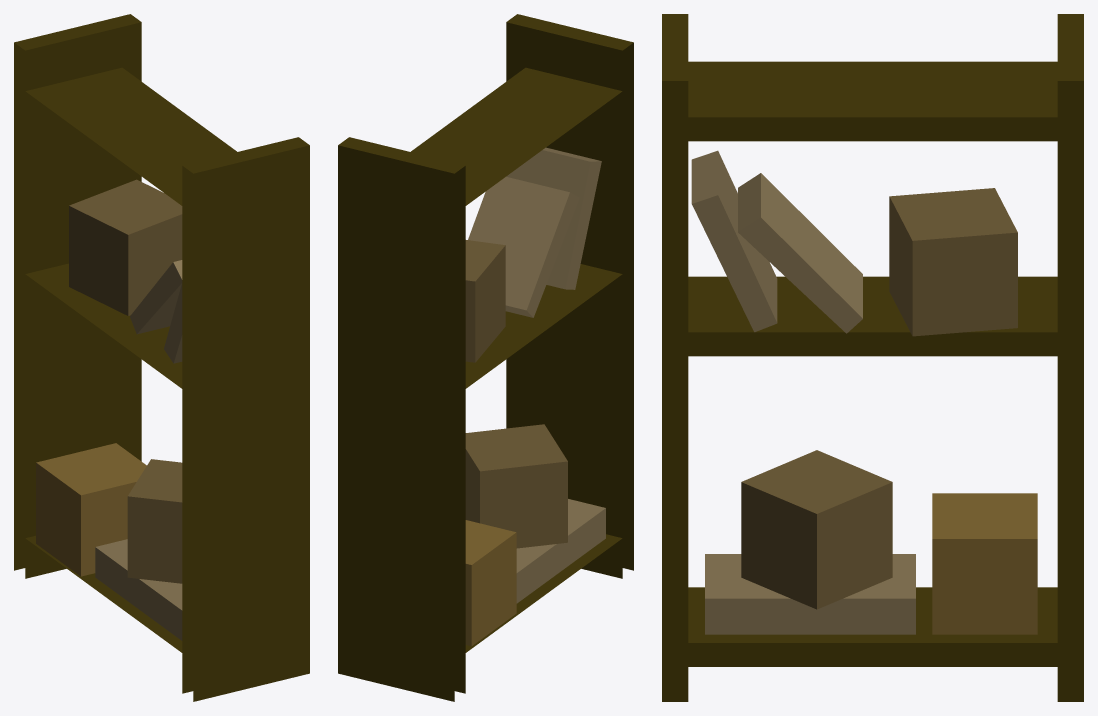
The model's file is obj_warehouse_shelves_4_0.obj.
3 renders of one model, left to right at view 1: azimuth 30°, elevation 25°; view 2: azimuth 150°, elevation 25°; view 3: azimuth 270°, elevation 25°, orthographic. The views are drawn at different scales.
Bounding box in the file's own units: 0.375 × 1.62 × 1.
